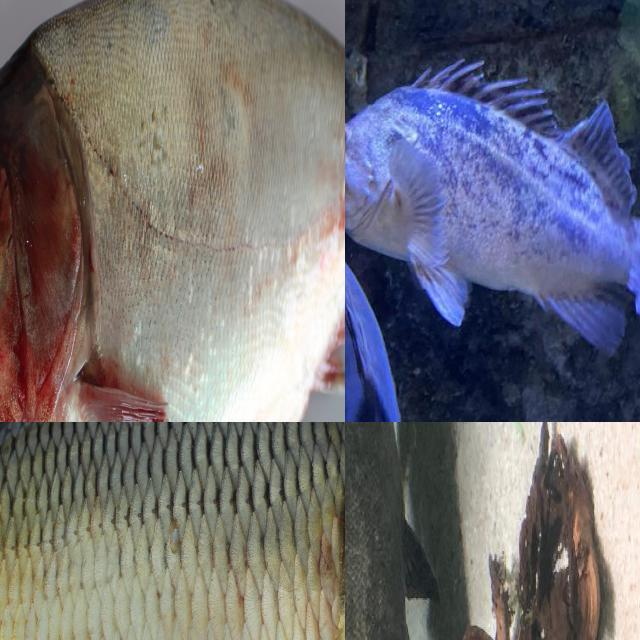fish: (0, 0, 345, 422), (345, 38, 640, 341), (0, 422, 345, 640), (345, 422, 453, 640)
